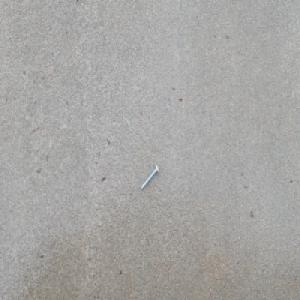Nail: (139, 164, 159, 192)
